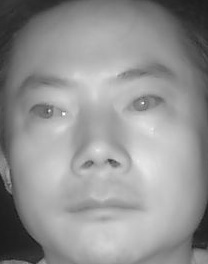eye: (120, 91, 167, 119), (24, 98, 67, 124)
mouth: (62, 184, 147, 230)
